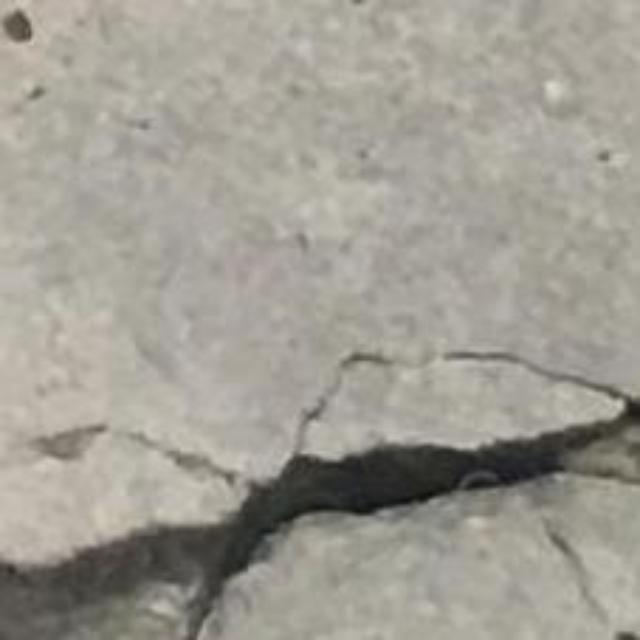crack: (0, 350, 639, 639)
